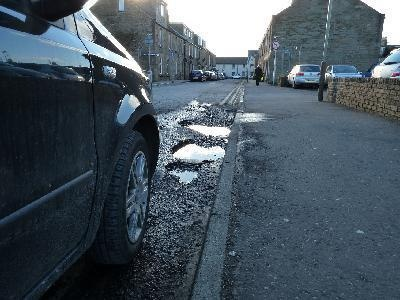pothole: (171, 138, 227, 161), (177, 116, 232, 139), (164, 161, 201, 184)
